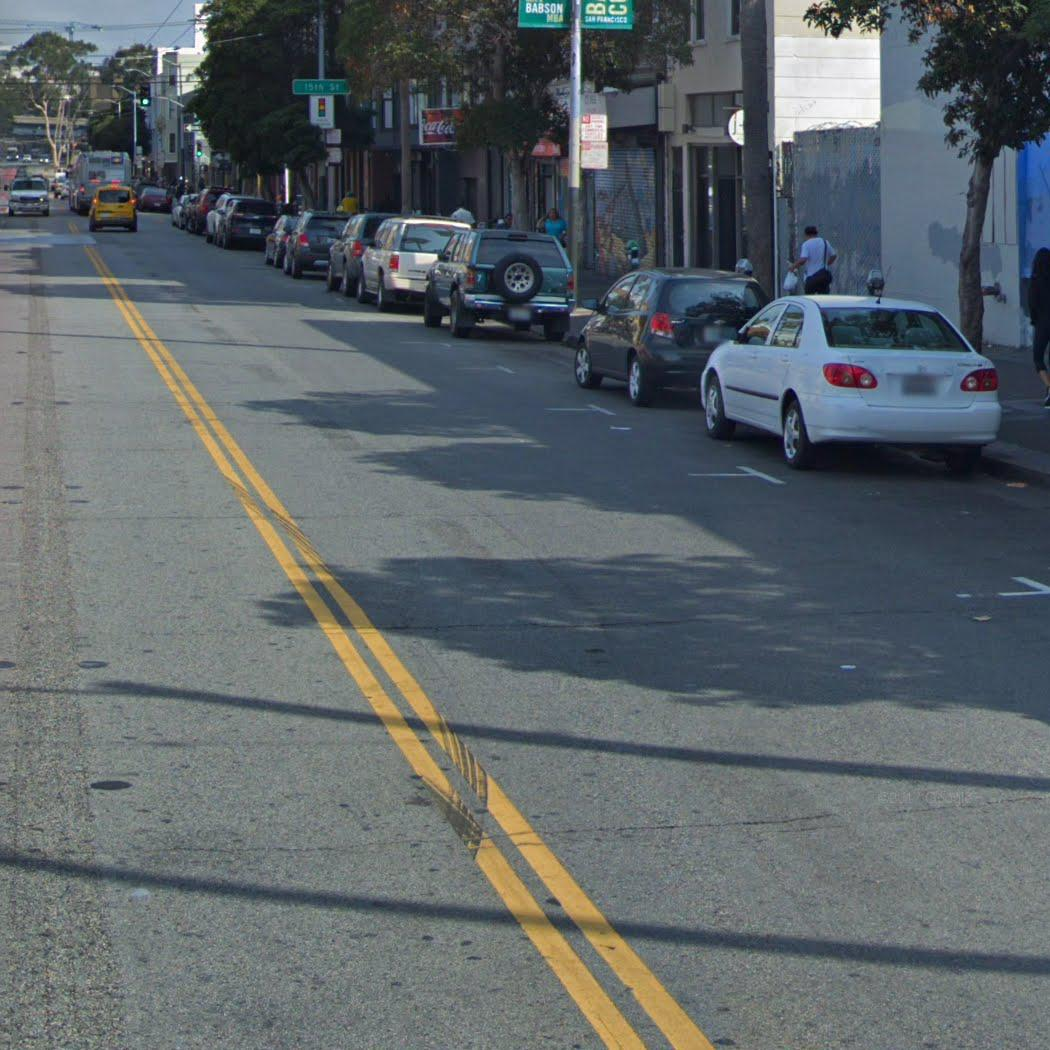No Parking: (579, 139, 609, 171), (579, 112, 609, 141)
